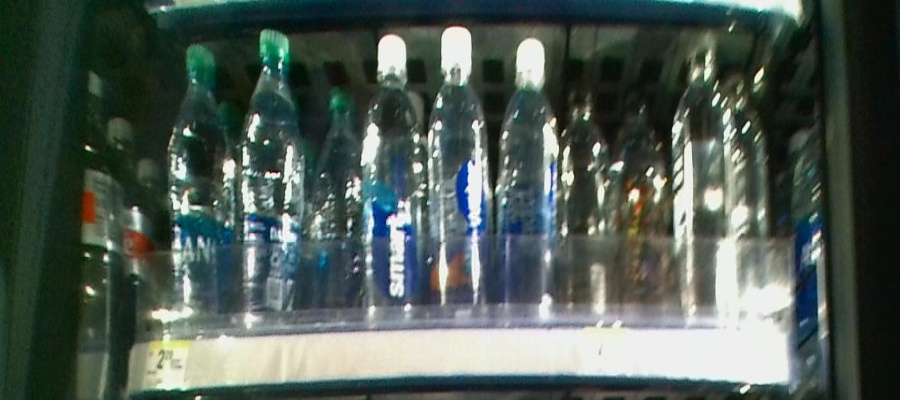bottle: (238, 22, 307, 327), (498, 27, 562, 318), (361, 25, 423, 322), (430, 24, 492, 320), (166, 40, 229, 324), (677, 43, 726, 322), (311, 61, 358, 324), (619, 105, 670, 311), (567, 80, 610, 311)
